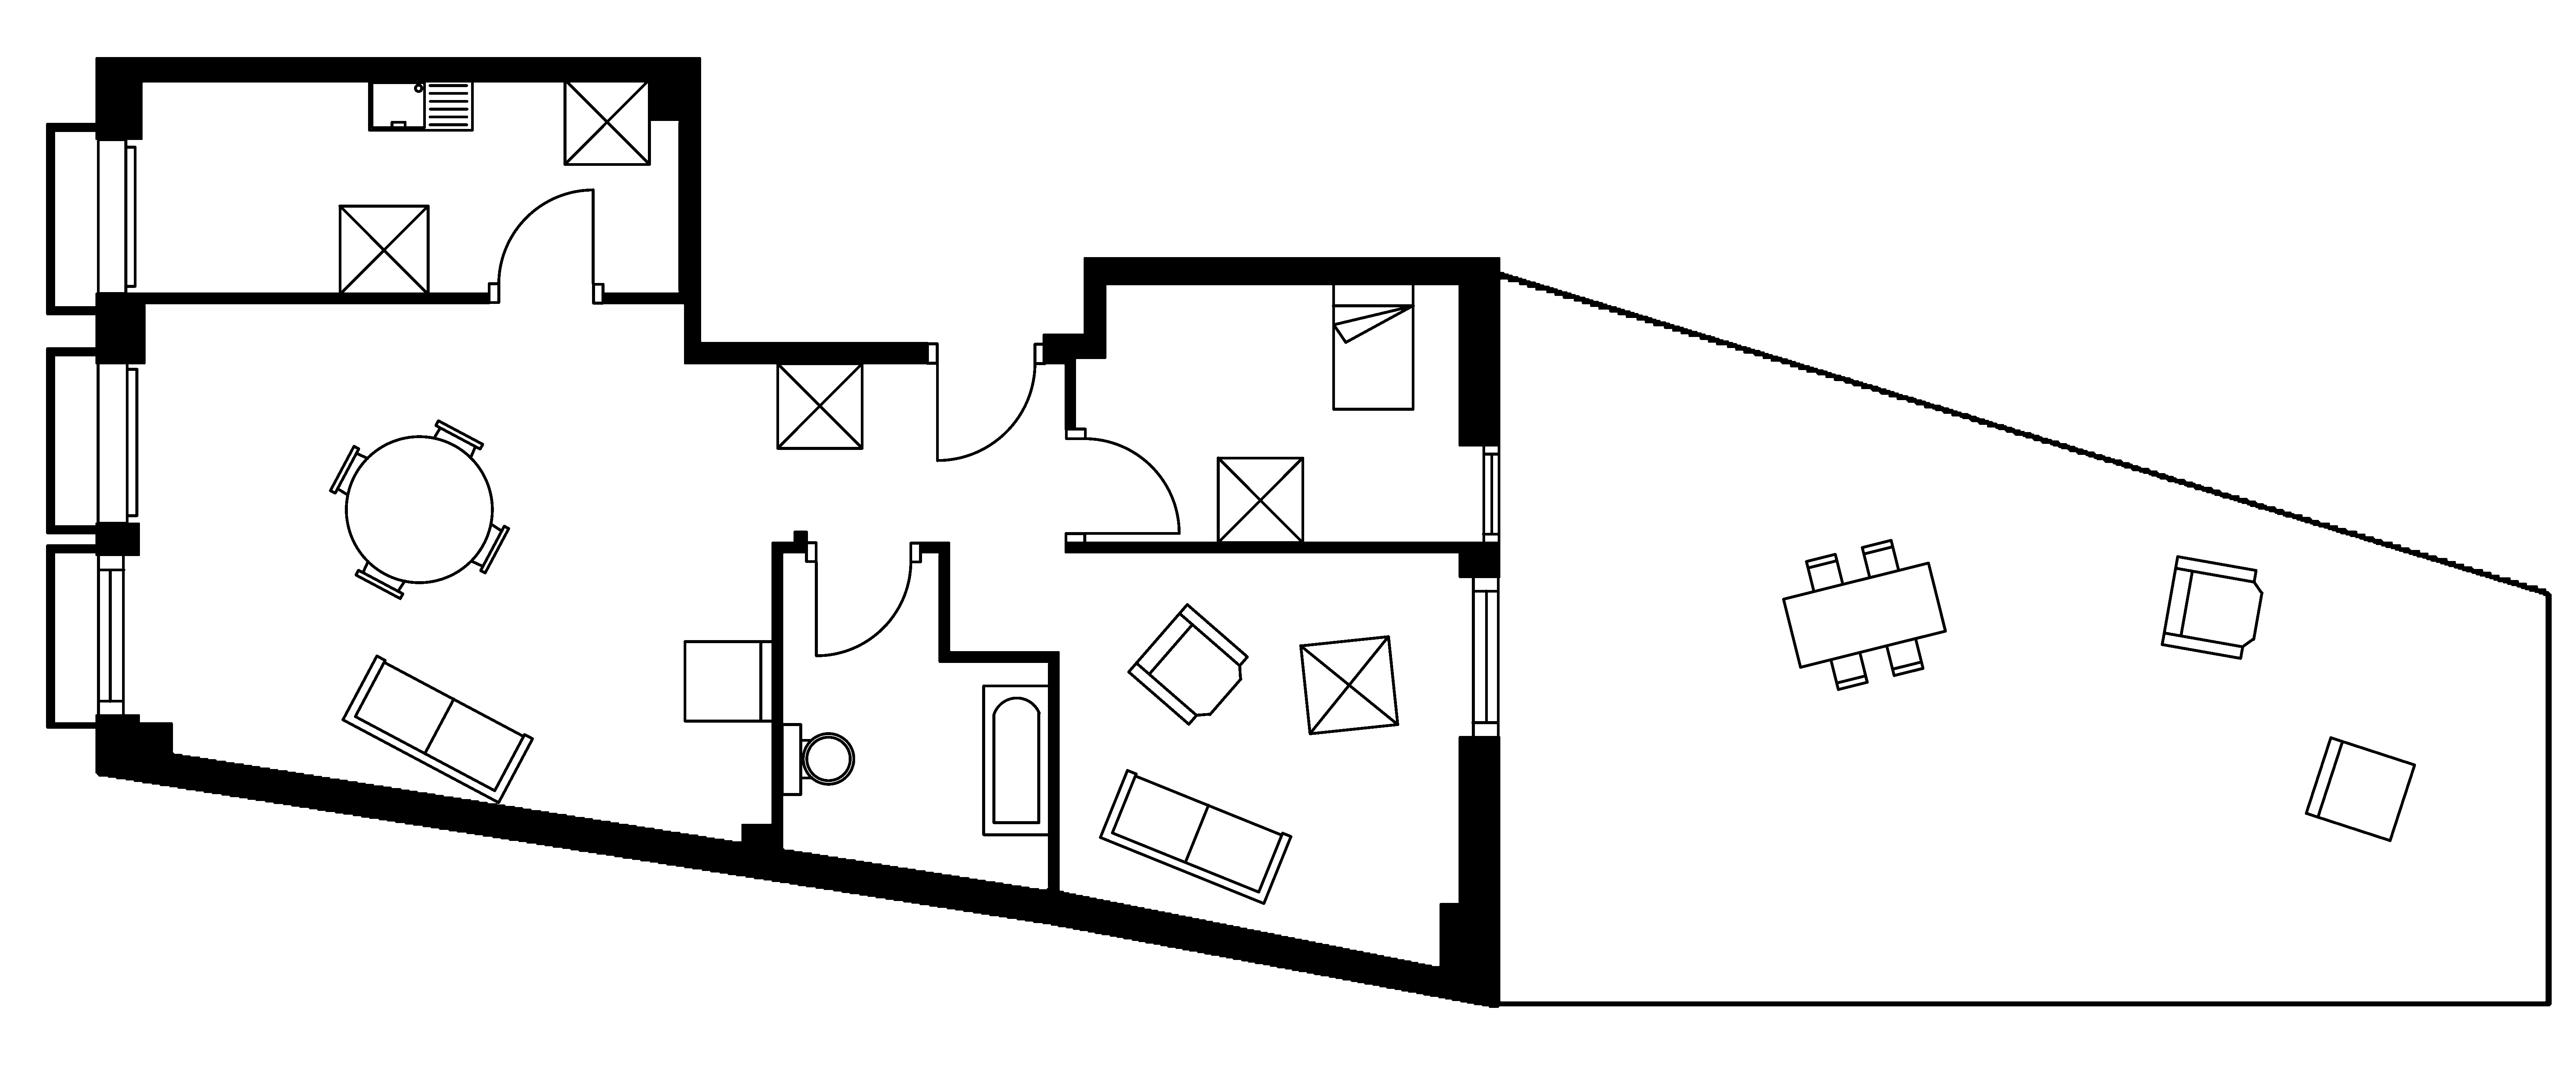armchair: (1127, 602, 1249, 727), (2160, 554, 2264, 659)
bed: (1331, 281, 1414, 411)
coffee_table: (1298, 635, 1400, 735), (338, 204, 430, 296), (562, 77, 651, 166), (775, 362, 864, 451), (1216, 456, 1304, 544)
dining_table: (1781, 538, 1947, 691)
large_sink: (780, 722, 854, 796)
large_sofa: (340, 655, 534, 804), (1097, 768, 1293, 904)
round_table: (329, 418, 511, 600)
sink: (368, 77, 473, 132)
small_sofa: (2305, 735, 2417, 842), (682, 640, 774, 722)
tub: (981, 684, 1051, 837)
